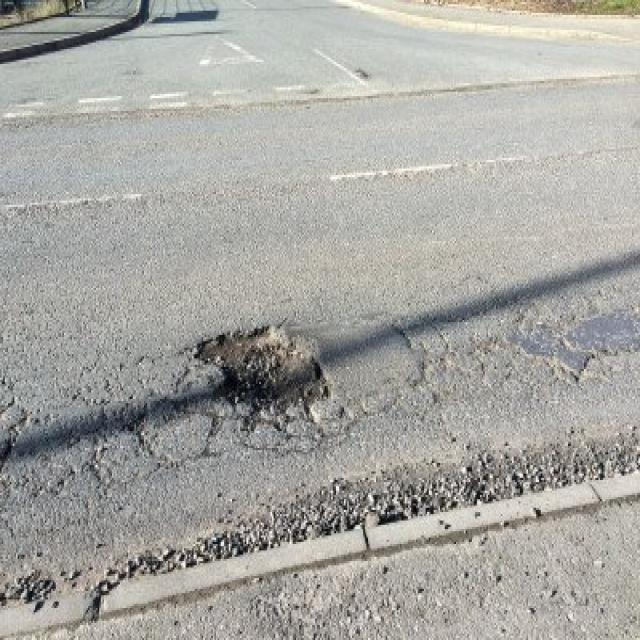pothole: (184, 321, 332, 420)
